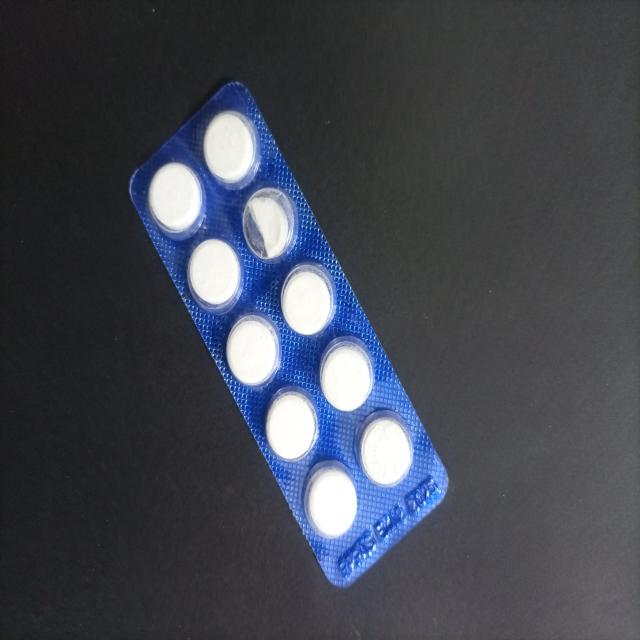defect: (241, 185, 300, 263)
